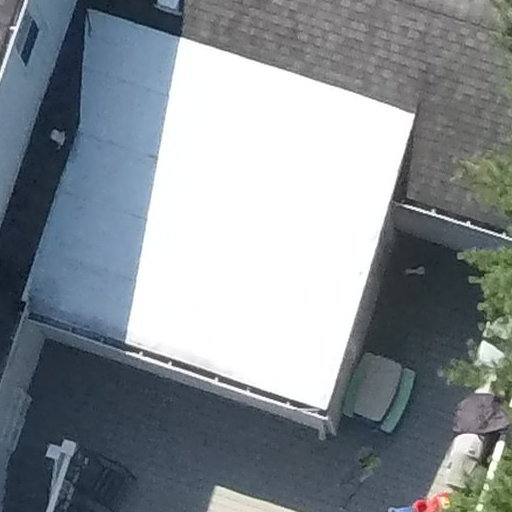table: (329, 341, 431, 443)
toy: (378, 479, 459, 512)
